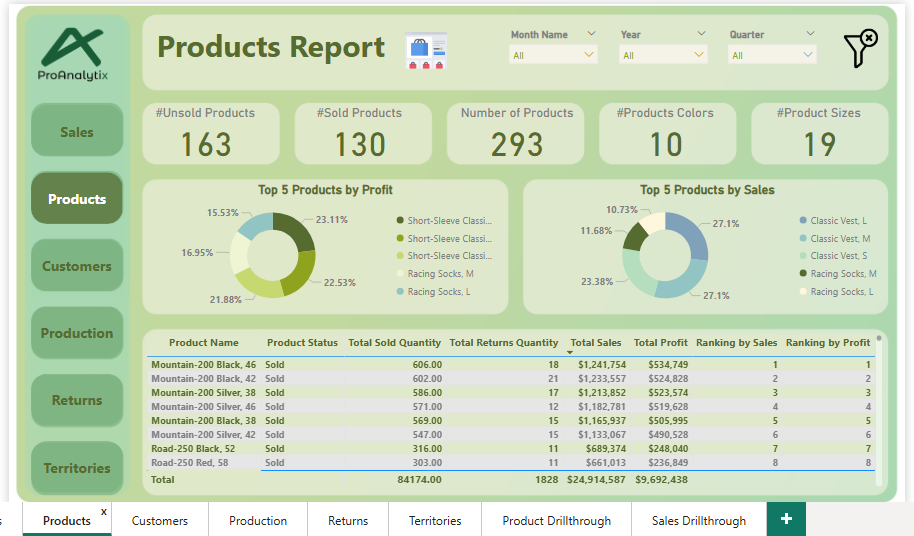

The page's visual inventory and layout, read from the dashboard file:
{"tool":"powerbi","page":{"name":"Products","canvas":[1280,720],"ordinal":1},"visuals":[{"type":"card","title":"Number of Products","fields":{"Values":["_Measures 1.Number of Products"]},"box":[629.3,144.6,192,80],"z":0},{"type":"card","title":"#Products Colors","fields":{"Values":["Count(Products.Product Color)"]},"box":[841.9,144.6,192,80],"z":1000},{"type":"card","title":"#Product Sizes","fields":{"Values":["Count(Products.Product Size)"]},"box":[1061.6,144.6,191.3,79.4],"z":2000},{"type":"tableEx","fields":{"Values":["Products.Product Name","Products.Product Status","_Measures 1.Total Order Quantity","_Measures 1.Total Returns Quantity","_Measures 1.Total Sales Amount","_Measures 1.Total Gross Profit","_Measures 1.Product Rank by Sales DESC","_Measures 1.Product Rank by Profit Desc"]},"box":[191.4,467.1,1061.4,227.1],"z":3000},{"type":"donutChart","title":"Top 5 Products by Sales","fields":{"Category":["Products.Product Name"],"Y":["_Measures 1.Total Sales Amount"]},"box":[741.3,253.7,513.1,188.5],"z":4000},{"type":"donutChart","title":"Top 5 Products by Profit","fields":{"Category":["Products.Product Name"],"Y":["_Measures 1.Total Gross Profit"]},"box":[195.6,253.7,513.1,188.5],"z":5000},{"type":"card","title":"#Sold Products","fields":{"Values":["_Measures 1.number of sold products"]},"box":[403.9,144.6,192.8,80],"z":6000},{"type":"card","title":"#Unsold Products","fields":{"Values":["_Measures 1.Number of unsold products"]},"box":[184.3,144.6,192.8,80.8],"z":7000},{"type":"image","box":[21.3,28.3,139,88],"z":8000},{"type":"slicer","fields":{"Values":["Calendar.Year"]},"box":[861.4,30,147.1,92.9],"z":9000},{"type":"slicer","fields":{"Values":["Calendar.Quarter"]},"box":[1017.1,30,147.1,92.9],"z":10000},{"type":"slicer","fields":{"Values":["Calendar.Month Name"]},"box":[704.3,30,147.1,92.9],"z":11000},{"type":"pageNavigator","box":[31,144.3,131,556],"z":12000},{"type":"textbox","box":[205.7,24.3,342.9,72.9],"z":13000},{"type":"image","box":[1180.6,29.8,73.7,66.6],"z":14000},{"type":"image","box":[542.8,29.8,106.3,72.3],"z":16000}]}

Visuals, with their boxes on the page's 1280x720 design canvas (x1, y1, x2, y2). These are canvas units, not pixel positions in the 914x536 screenshot, which may show the page scaled, cropped or inside an application window:
"Number of Products" card: <region>629, 145, 821, 225</region>
"#Products Colors" card: <region>842, 145, 1034, 225</region>
"#Product Sizes" card: <region>1062, 145, 1253, 224</region>
tableEx - Products.Product Name x Products.Product Status: <region>191, 467, 1253, 694</region>
"Top 5 Products by Sales" donutChart: <region>741, 254, 1254, 442</region>
"Top 5 Products by Profit" donutChart: <region>196, 254, 709, 442</region>
"#Sold Products" card: <region>404, 145, 597, 225</region>
"#Unsold Products" card: <region>184, 145, 377, 225</region>
image: <region>21, 28, 160, 116</region>
slicer - Calendar.Year: <region>861, 30, 1008, 123</region>
slicer - Calendar.Quarter: <region>1017, 30, 1164, 123</region>
slicer - Calendar.Month Name: <region>704, 30, 851, 123</region>
pageNavigator: <region>31, 144, 162, 700</region>
textbox: <region>206, 24, 549, 97</region>
image: <region>1181, 30, 1254, 96</region>
image: <region>543, 30, 649, 102</region>
